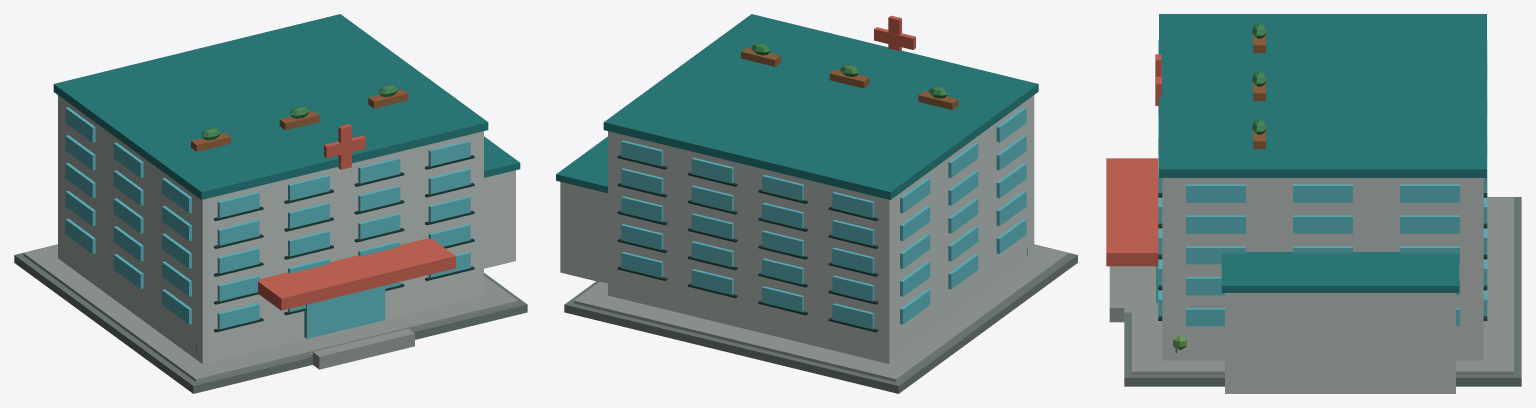
Rendered from clinic_lv3.glb.
3 renders of one model, left to right at view 1: azimuth 30°, elevation 25°; view 2: azimuth 150°, elevation 25°; view 3: azimuth 270°, elevation 25°, orthographic. The views are drawn at different scales.
Visible parts, largest first — view 1: rough, glossy; view 2: rough, glossy; view 3: rough, glossy.
Boxes of the visible parts, x1,y1,x2,y2 form: rough: (14,14,527,393); glossy: (65,107,470,338); rough: (556,14,1077,393); glossy: (621,107,1026,329); rough: (1106,14,1521,393); glossy: (1156,40,1487,326).
Bounding box in the file's own units: 10.87 × 6.03 × 9.51.
